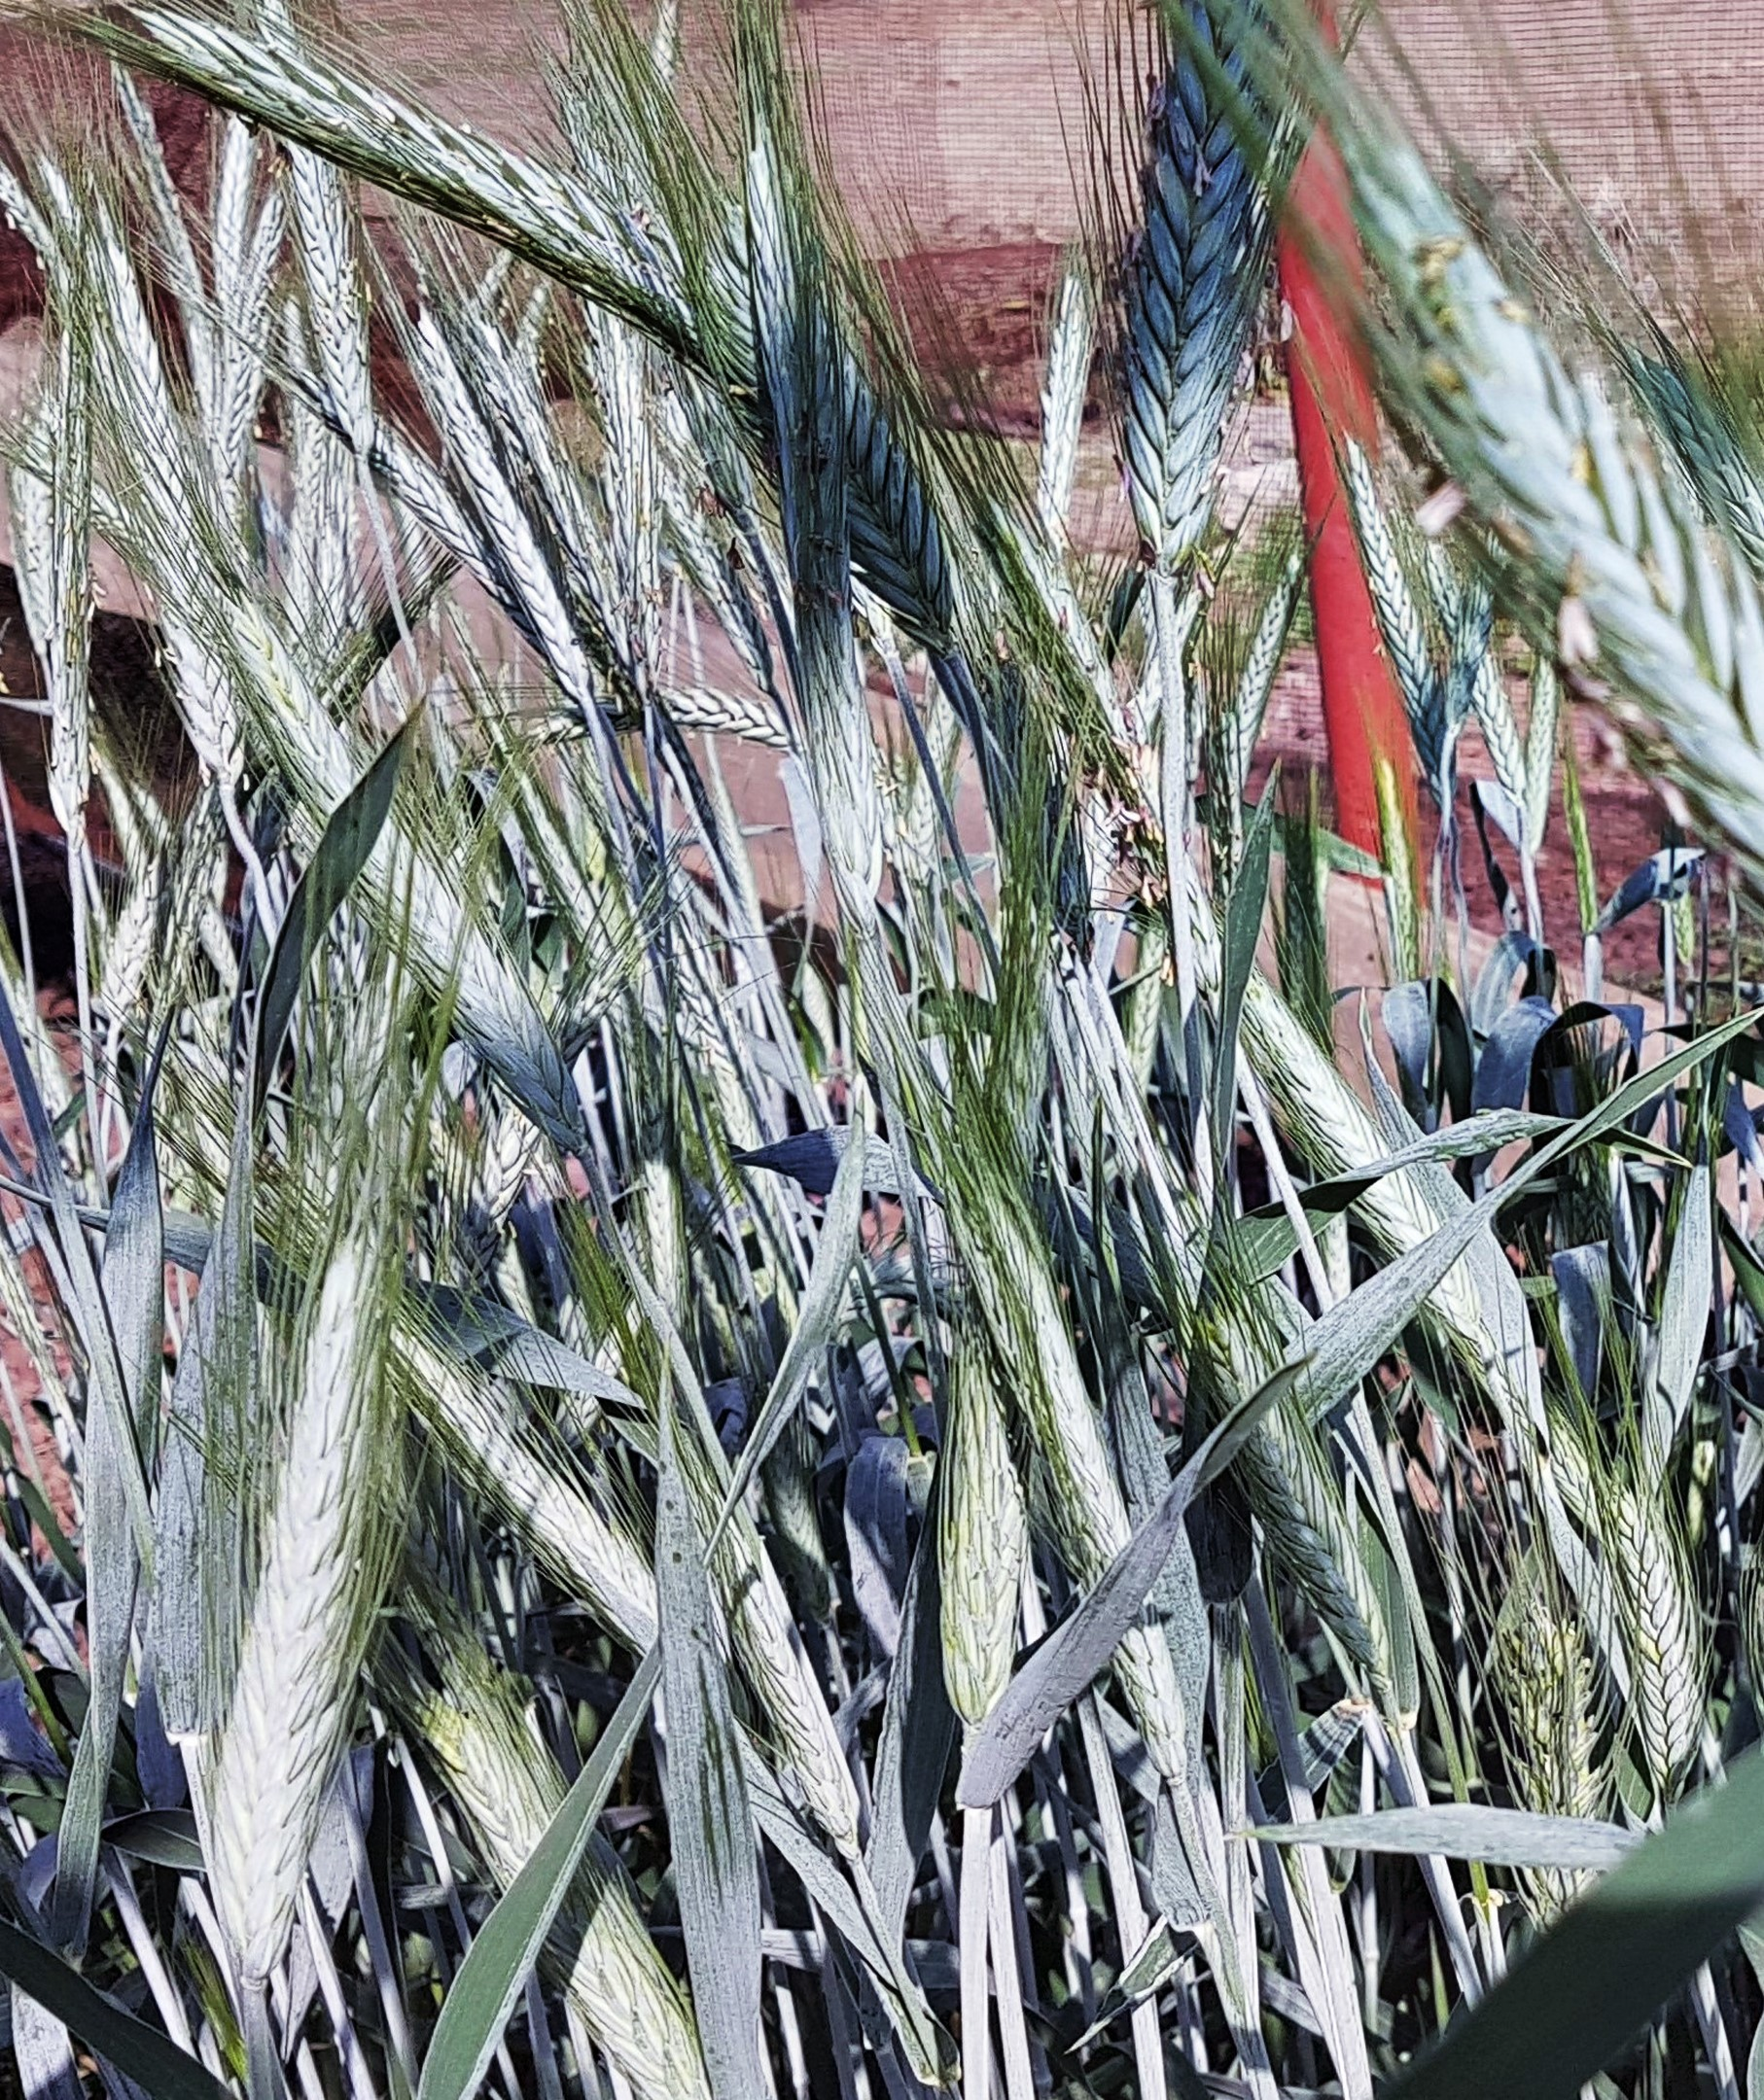Healthy Wheat: (1585, 1454, 1757, 1902), (380, 306, 590, 668)
